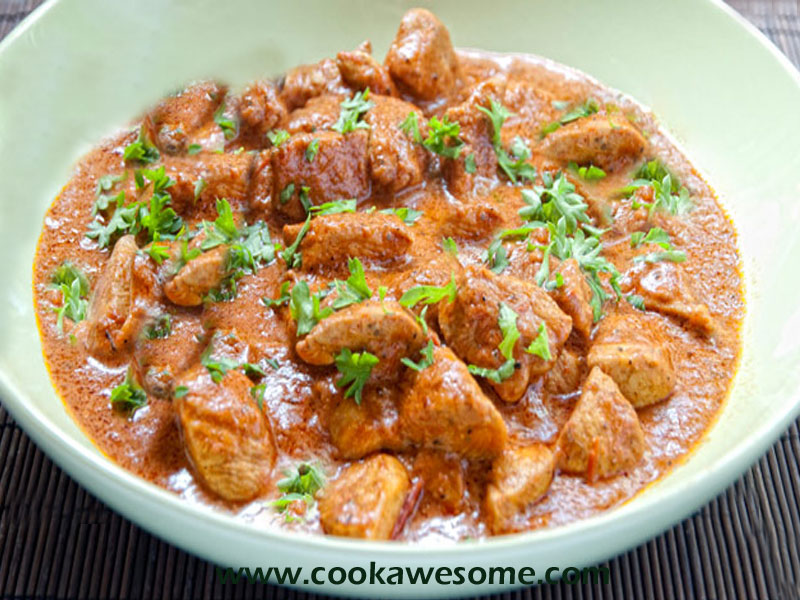butter_chicken: (92, 61, 715, 542)
